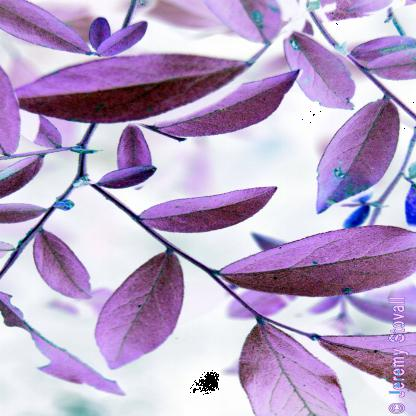Blueberry leaf: (83, 235, 208, 384), (25, 50, 265, 122), (216, 224, 416, 304), (223, 313, 357, 416), (312, 87, 413, 219), (126, 179, 298, 236), (19, 224, 106, 303), (278, 31, 363, 109), (1, 1, 103, 63), (104, 126, 152, 207)
